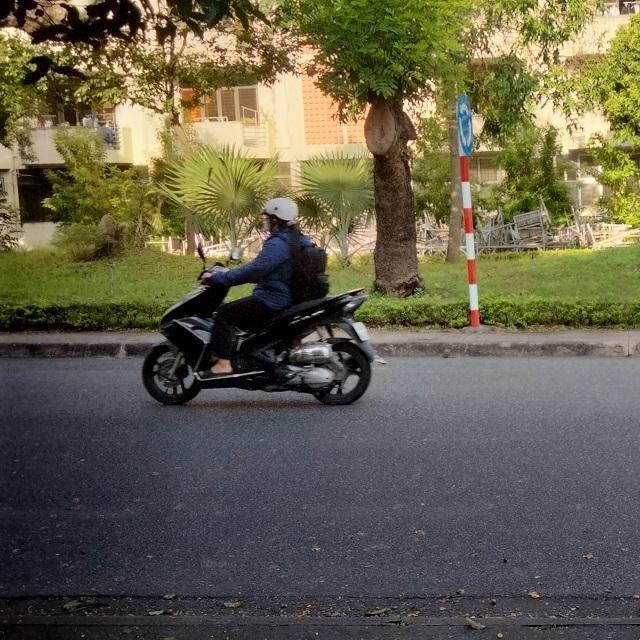Helmet: (260, 195, 302, 241)
